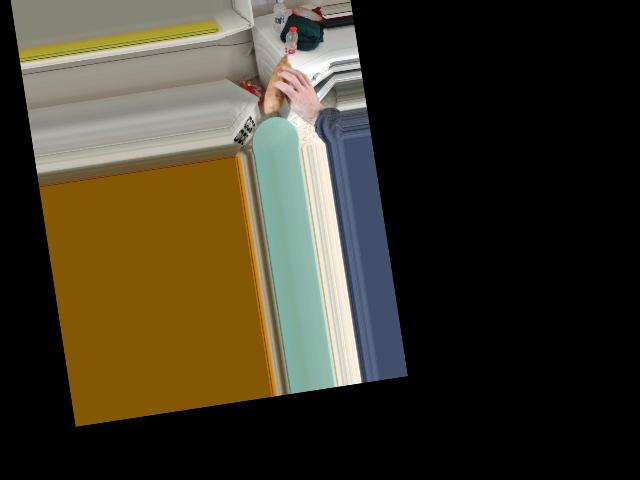sweet_potato: (258, 56, 305, 105)
